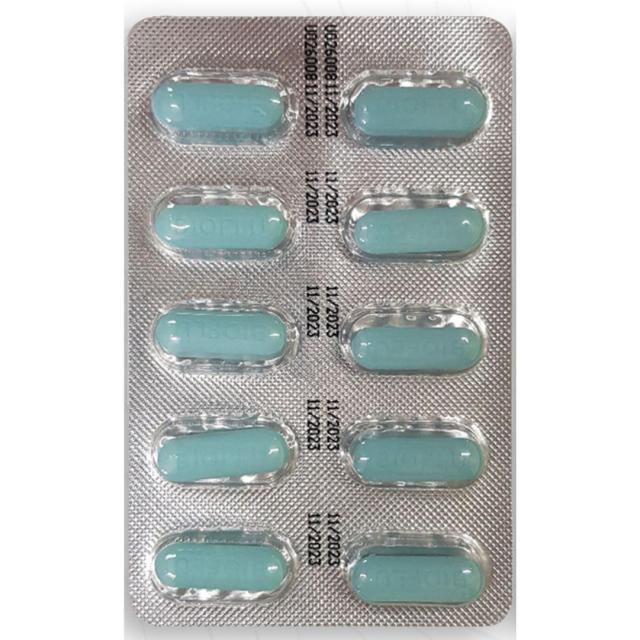blister: (128, 12, 521, 632)
